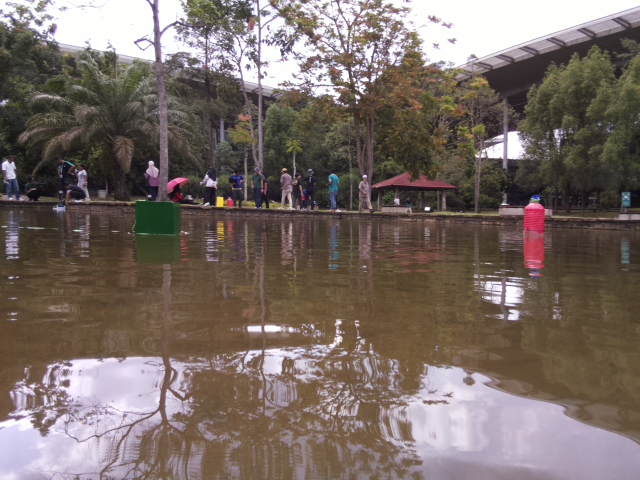obstacle: (134, 200, 183, 237)
